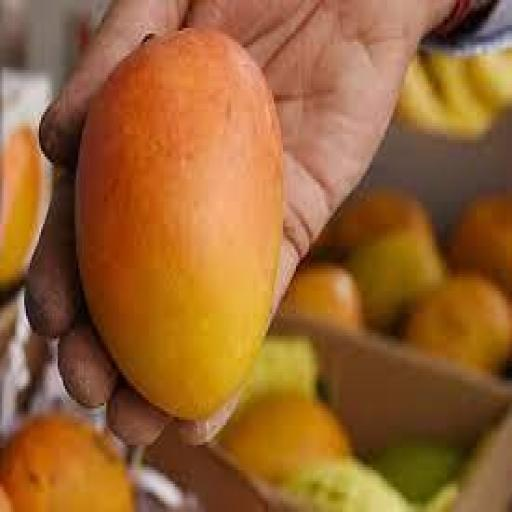mango: (77, 31, 282, 419)
